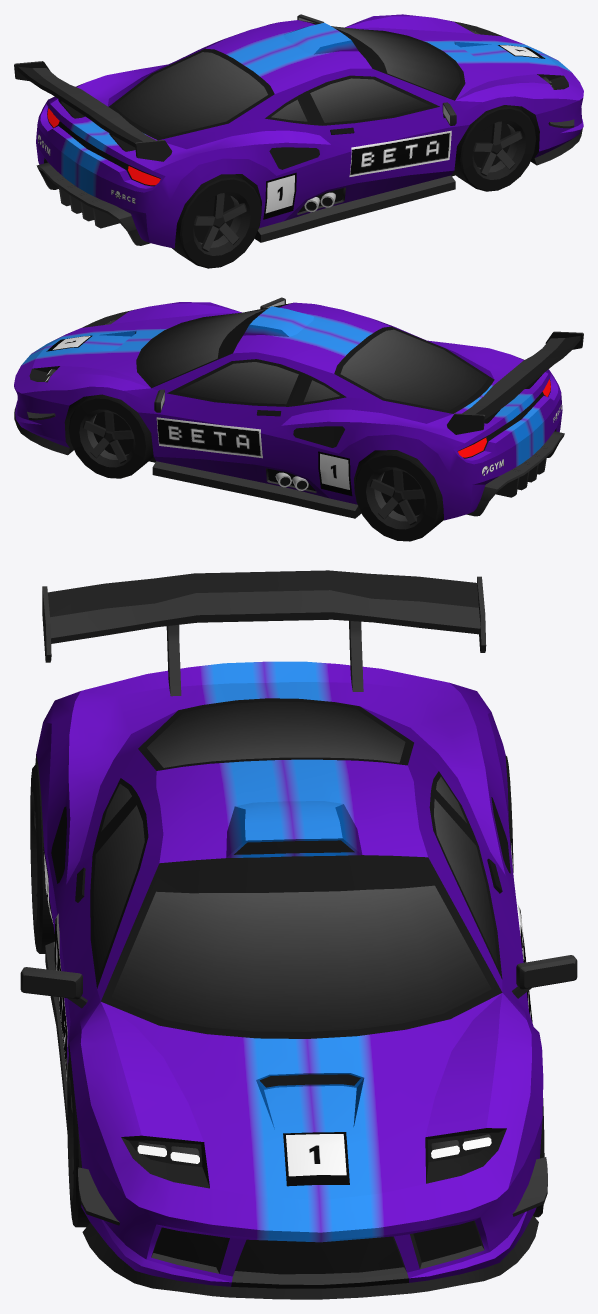
File: RaceCar_021.glb
The picture shows the model from 3 angles, top to bottom: view 1: azimuth 30°, elevation 25°; view 2: azimuth 150°, elevation 25°; view 3: azimuth 270°, elevation 25°; orthographic projection. The views are drawn at different scales.
Visible parts, largest first — view 1: RaceCar_021, wheel_2_RaceCar_021_Wheel_2R, wheel_1_RaceCar_021_Wheel_1R; view 2: RaceCar_021, wheel_3_RaceCar_021_Wheel_3L, wheel_0_RaceCar_021_Wheel_1L; view 3: RaceCar_021, wheel_2_RaceCar_021_Wheel_2R, wheel_1_RaceCar_021_Wheel_1R.
Boxes of the visible parts, x1,y1,x2,y2 form: RaceCar_021: (14,14,583,248); wheel_2_RaceCar_021_Wheel_2R: (172,174,261,268); wheel_1_RaceCar_021_Wheel_1R: (453,105,536,191); RaceCar_021: (14,297,583,520); wheel_3_RaceCar_021_Wheel_3L: (354,450,443,541); wheel_0_RaceCar_021_Wheel_1L: (68,394,153,478); RaceCar_021: (20,570,577,1299); wheel_2_RaceCar_021_Wheel_2R: (30,764,54,953); wheel_1_RaceCar_021_Wheel_1R: (67,1054,90,1227).
Size of the model in its own units: 4.88 by 1.34 by 2.38.
3 materials, 3 textured.
